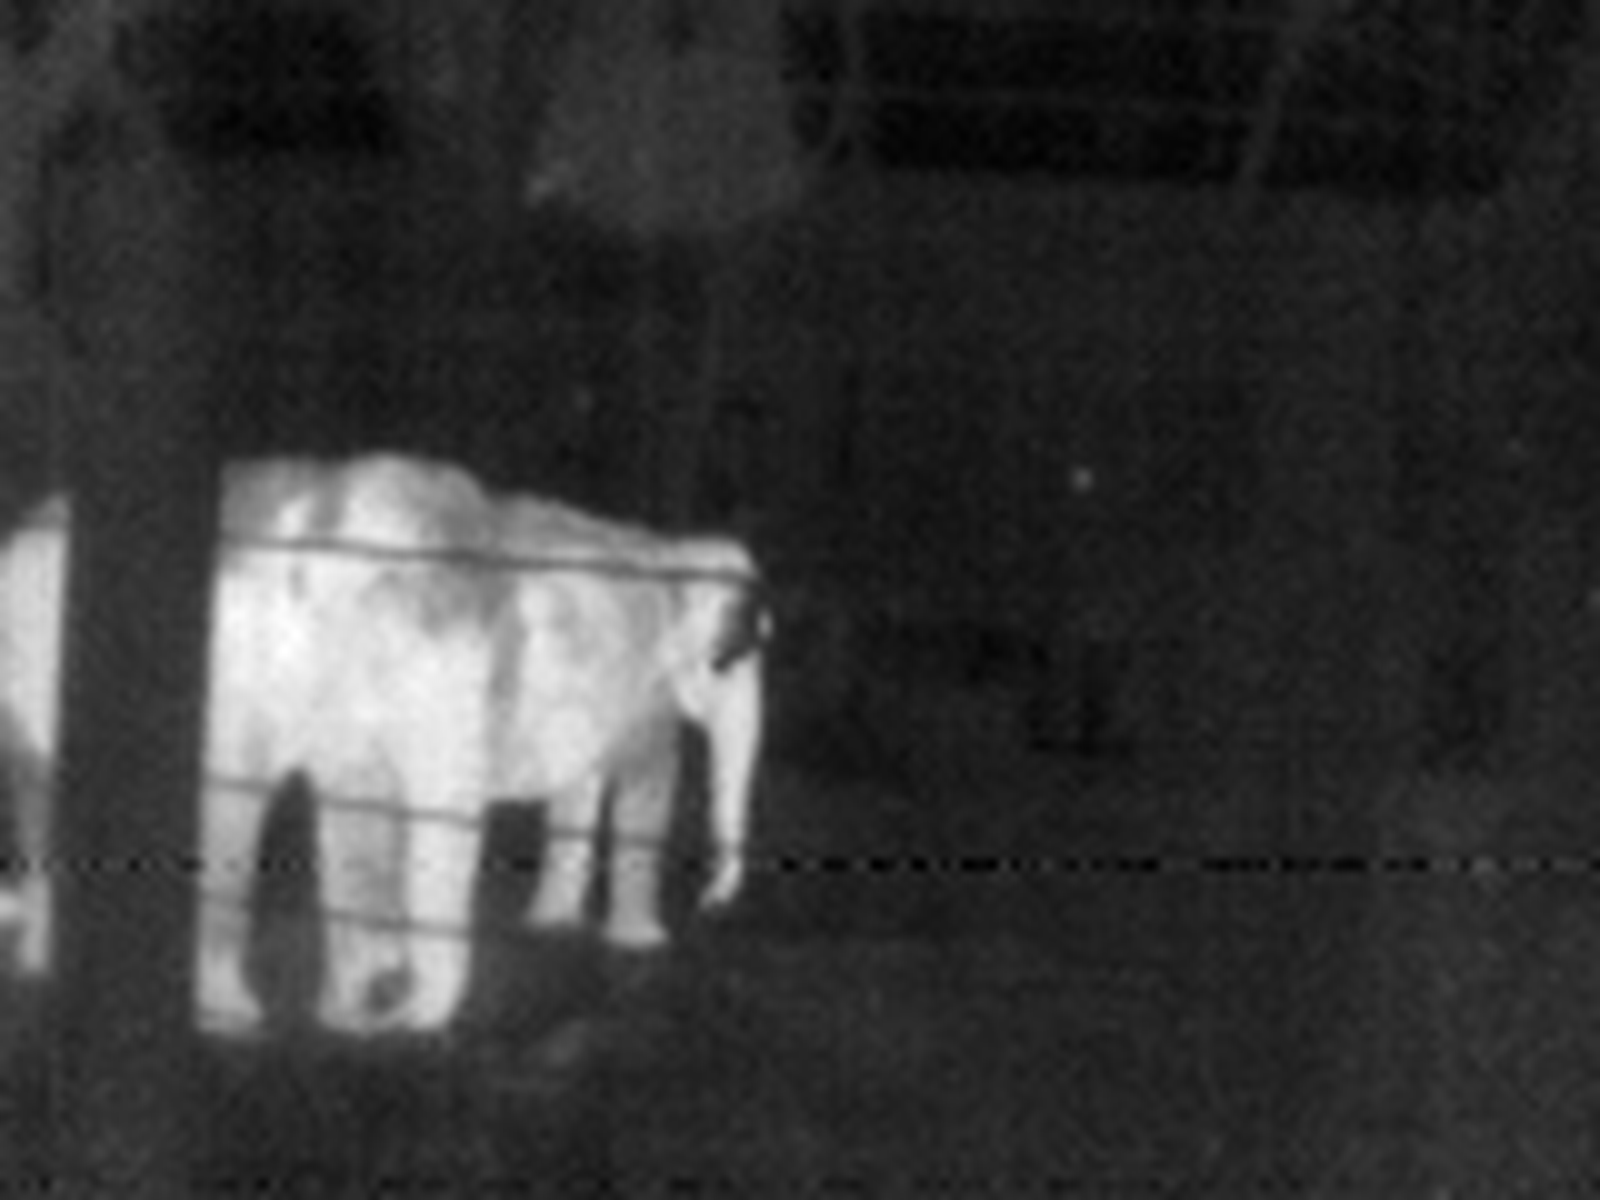elephant: (4, 429, 772, 1063)
